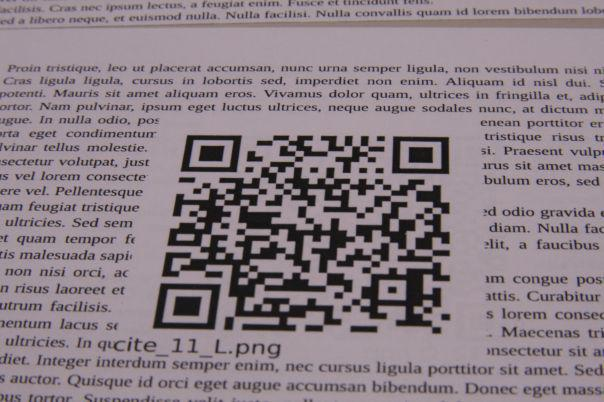Finder pattern: (147, 278, 226, 334), (389, 131, 455, 179), (175, 131, 246, 175)
